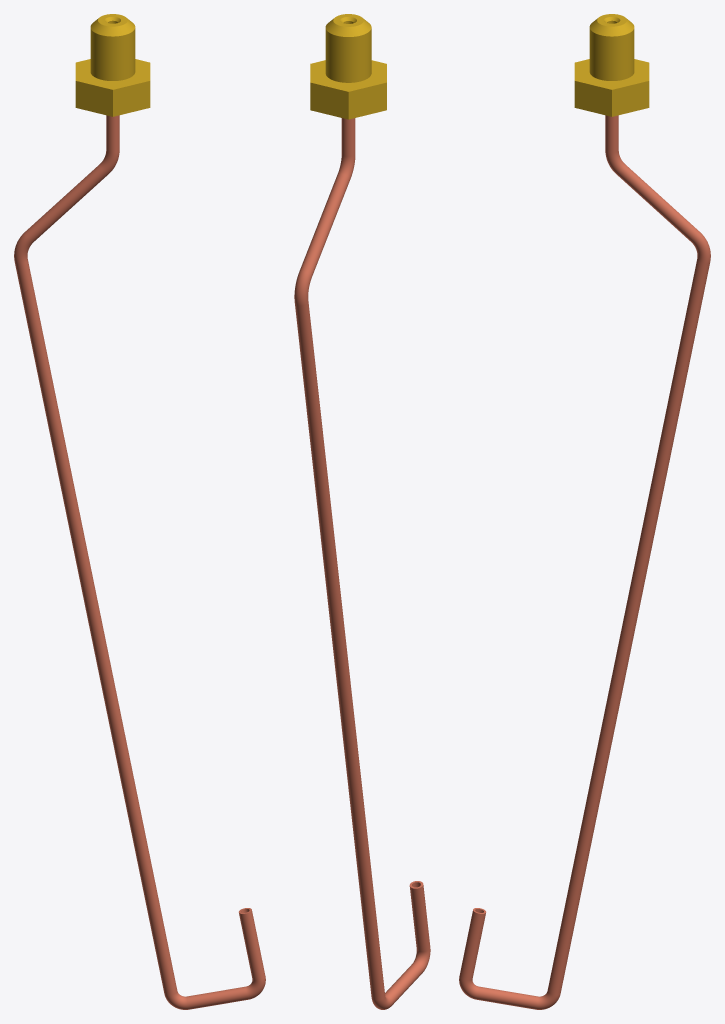
The model's file is modal9.fbx.
3 views of the same model, side by side, from view 1: azimuth 90°, elevation 25°; view 2: azimuth 150°, elevation 25°; view 3: azimuth 270°, elevation 25° (orthographic). The views are drawn at different scales.
Parts seen in each view (by area): view 1: 扫描-薄件1, 倒角3; view 2: 扫描-薄件1, 倒角3; view 3: 扫描-薄件1, 倒角3.
Boxes of the visible parts, bbox=[...] form: 扫描-薄件1: bbox=[14, 115, 265, 1009]; 倒角3: bbox=[75, 14, 150, 116]; 扫描-薄件1: bbox=[294, 118, 430, 1009]; 倒角3: bbox=[310, 14, 386, 119]; 扫描-薄件1: bbox=[459, 115, 710, 1009]; 倒角3: bbox=[574, 14, 649, 116].
Size of the model in its own units: 0.5774 by 7.31 by 1.69.
